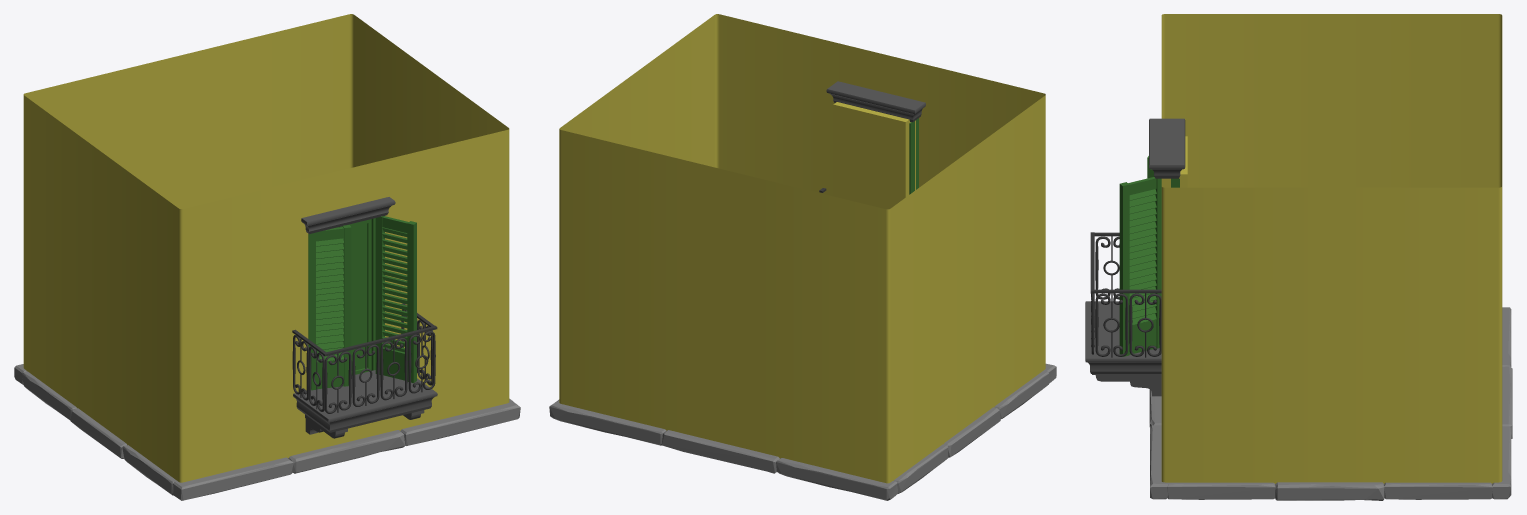
Rendered from SM_building_modular_1x1_04.fbx.
3 views of the same model, side by side, from view 1: azimuth 30°, elevation 25°; view 2: azimuth 150°, elevation 25°; view 3: azimuth 270°, elevation 25° (orthographic). The views are drawn at different scales.
Visible parts, largest first — view 1: Object32363; view 2: Object32363; view 3: Object32363.
Part boxes in pixels (x1=…): Object32363: x1=14, y1=14, x2=520, y2=500; Object32363: x1=549, y1=14, x2=1056, y2=500; Object32363: x1=1085, y1=14, x2=1512, y2=500.
Bounding box in the file's own units: 213 × 170 × 213.
